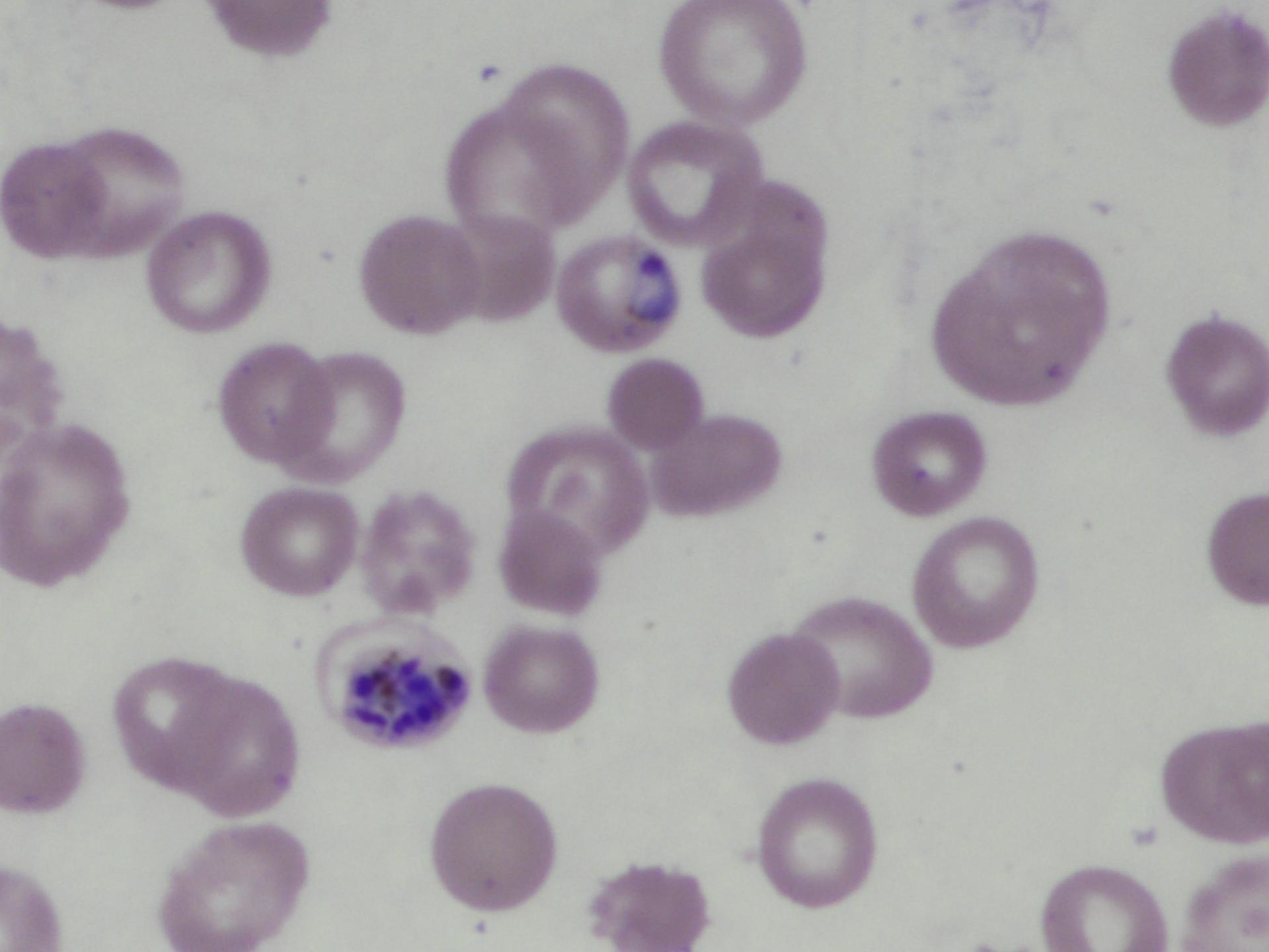Infected: (319, 615, 475, 748), (557, 232, 675, 347)
Uninfected: (932, 234, 1109, 406), (450, 68, 626, 235), (115, 659, 295, 819), (221, 343, 397, 483), (3, 129, 177, 260), (0, 427, 125, 583), (702, 187, 827, 335), (161, 824, 305, 952), (508, 430, 646, 556), (662, 1, 800, 121), (629, 125, 760, 245), (797, 602, 929, 721), (431, 786, 554, 911), (913, 521, 1034, 645), (361, 217, 484, 332), (760, 782, 874, 906), (149, 213, 270, 329), (361, 494, 472, 613), (647, 418, 775, 513), (1165, 719, 1265, 840), (241, 490, 354, 596), (484, 628, 595, 733), (1167, 318, 1269, 432), (728, 636, 835, 743), (872, 414, 982, 515), (1169, 15, 1269, 124), (500, 512, 605, 614), (449, 215, 549, 322), (590, 863, 707, 952), (1042, 869, 1162, 949), (0, 706, 82, 811), (608, 360, 704, 448), (1183, 860, 1266, 951), (1208, 494, 1269, 604)
